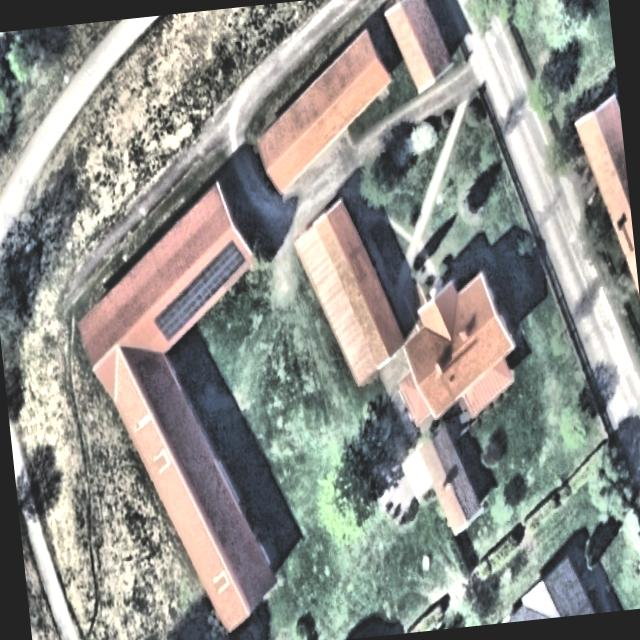roof_pv: (202, 239, 249, 293), (152, 298, 192, 344), (177, 274, 216, 316)
